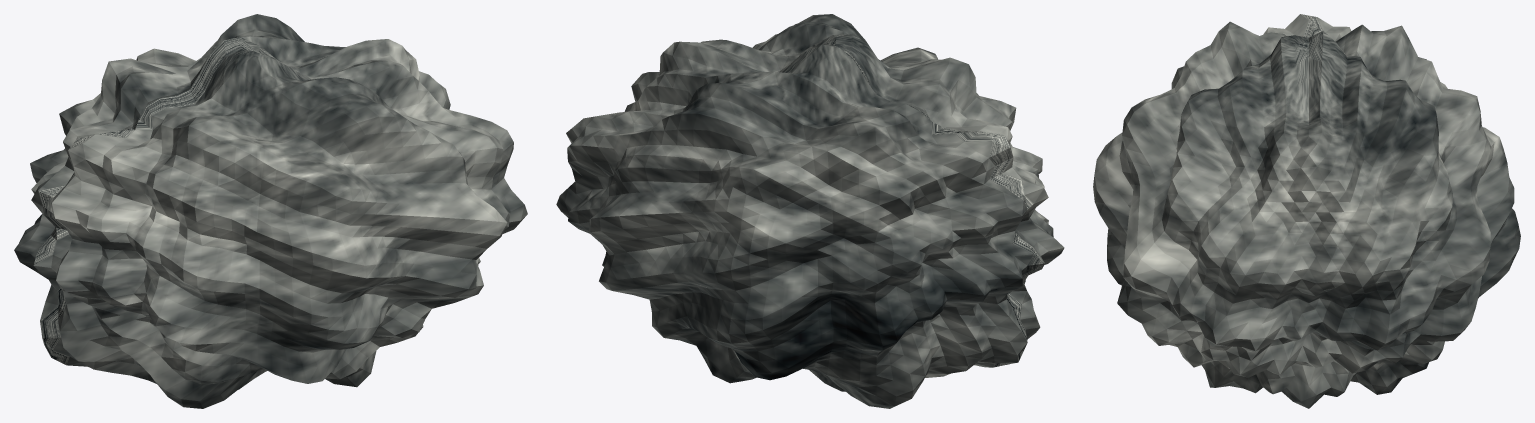
File: medium_01.glb
3 renders of one model, left to right at view 1: azimuth 30°, elevation 25°; view 2: azimuth 150°, elevation 25°; view 3: azimuth 270°, elevation 25°, orthographic.
Parts seen in each view (by area): view 1: rock; view 2: rock; view 3: rock.
Part boxes in pixels (x1,y1,x2,y2): rock: (14, 14, 527, 408); rock: (556, 14, 1064, 408); rock: (1093, 14, 1520, 408).
Size of the model in its own units: 2.86 by 2.07 by 2.39.
1 material, 1 textured.
